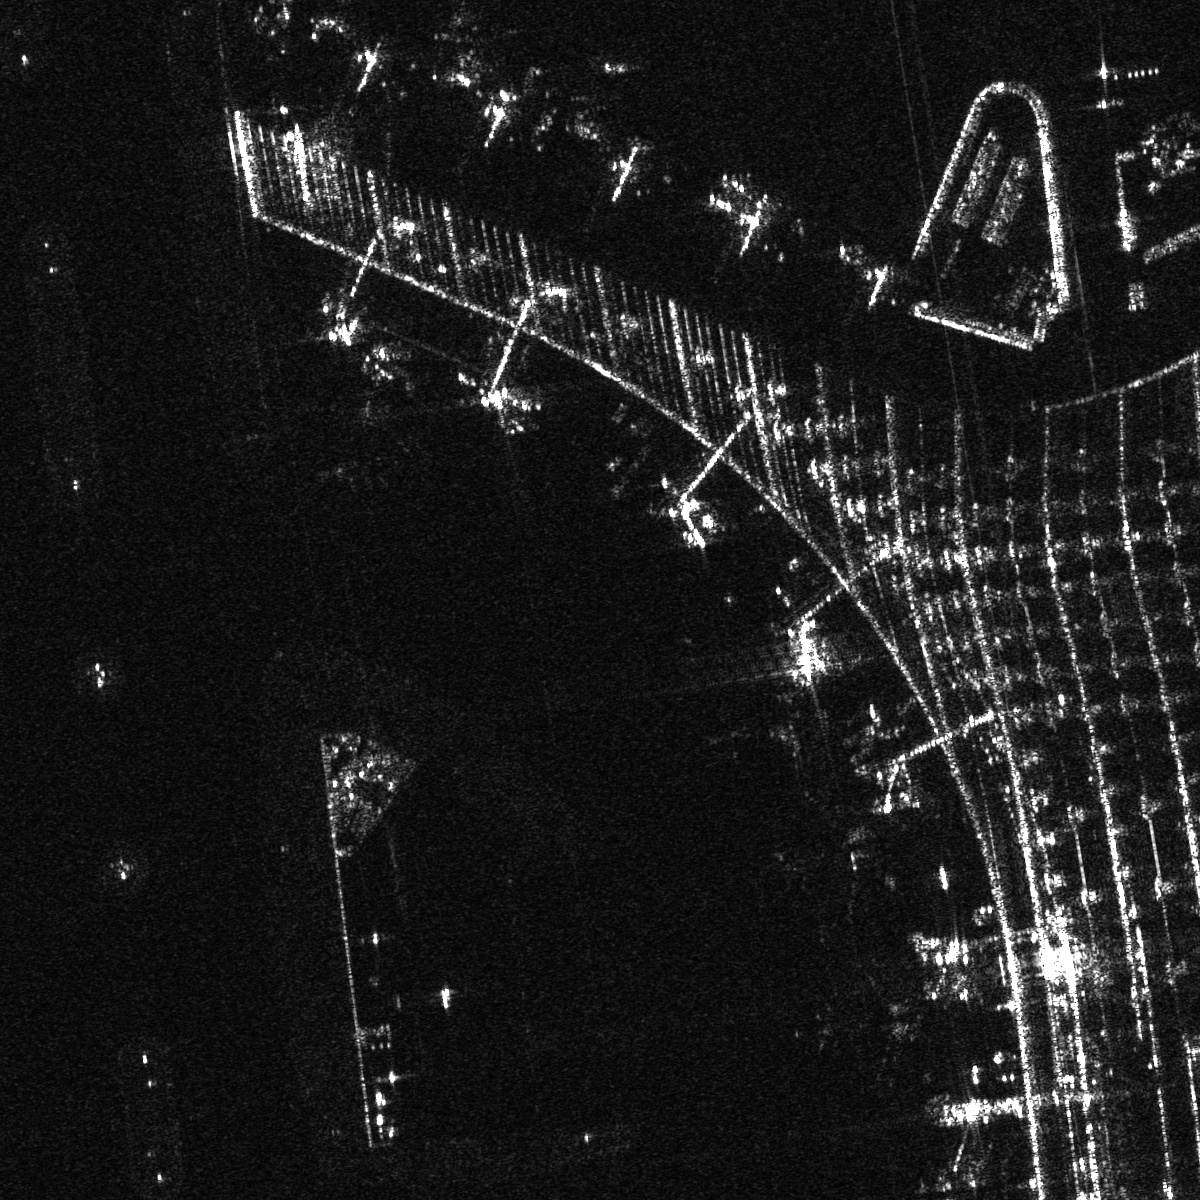Boeing787: (774, 786, 880, 902)
other: (808, 959, 930, 1076), (304, 382, 416, 484)
